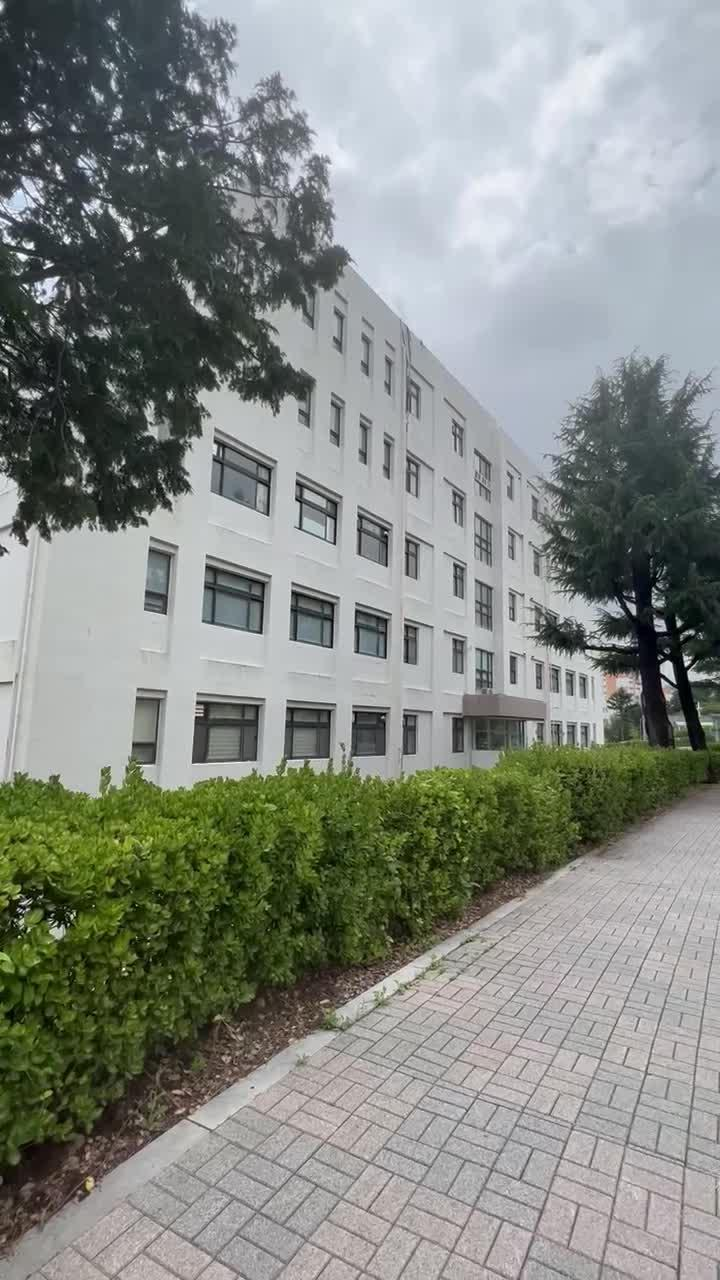building: (288, 284, 532, 760)
